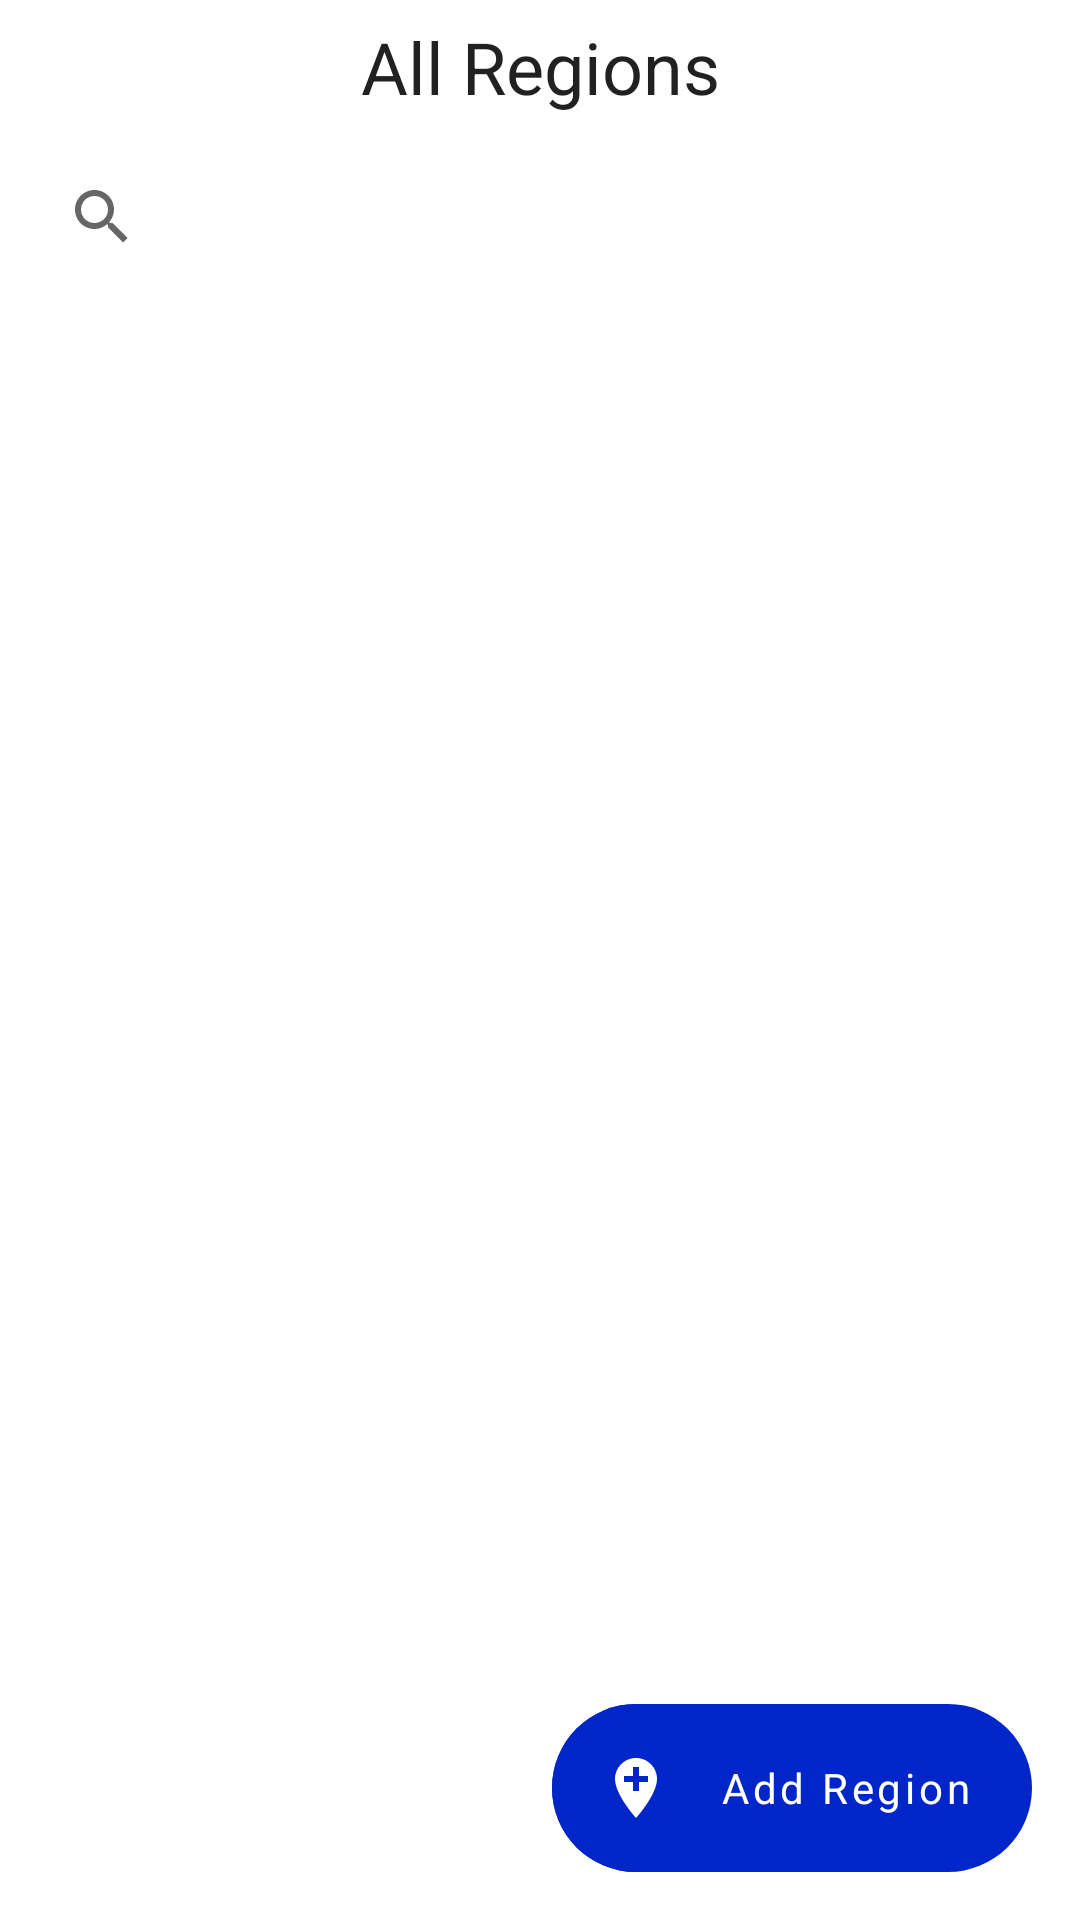

Point at icon controls on the screen. Image size 1080 × 1920, points as (x=x, y=y).
Create new region fab: (x=636, y=1788)
